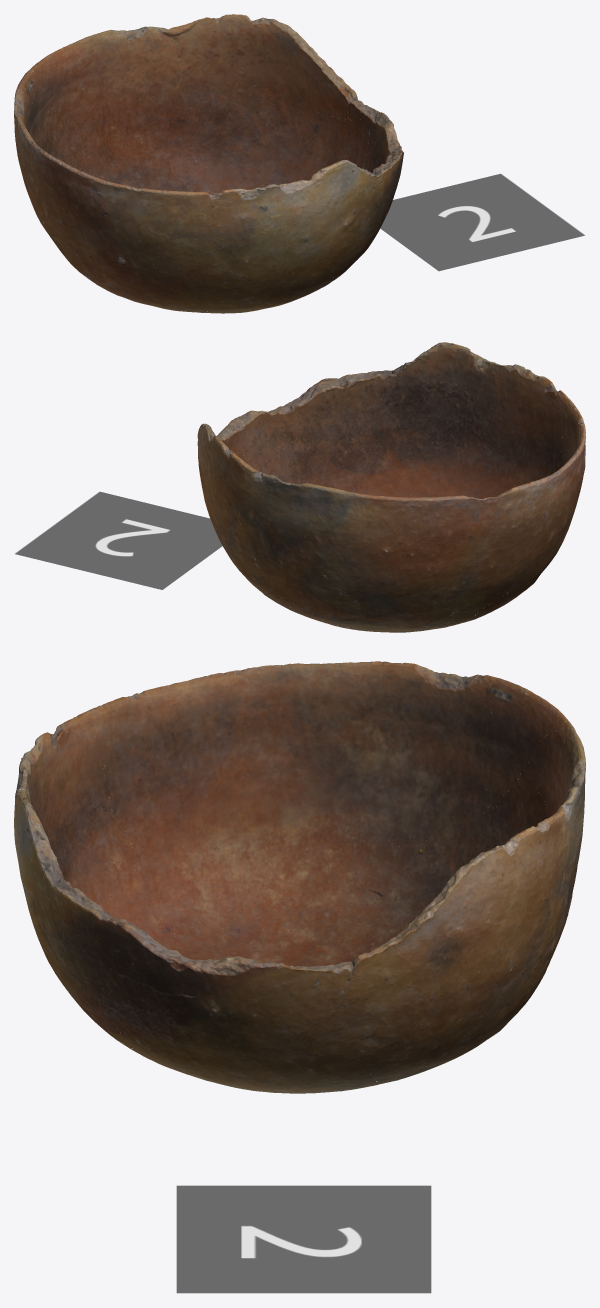
The model's file is Objeto_01-e-6.glb.
3 renders of one model, top to bottom at view 1: azimuth 30°, elevation 25°; view 2: azimuth 150°, elevation 25°; view 3: azimuth 270°, elevation 25°, orthographic. The views are drawn at different scales.
Parts seen in each view (by area): view 1: Mesh_0.001; view 2: Mesh_0.001; view 3: Mesh_0.001.
Boxes of the visible parts, x1,y1,x2,y2 form: Mesh_0.001: (14, 14, 584, 313); Mesh_0.001: (15, 342, 585, 632); Mesh_0.001: (14, 661, 585, 1293).
Size of the model in its own units: 0.4733 by 0.1743 by 0.3105.
Materials: 2 (2 with a texture image).
